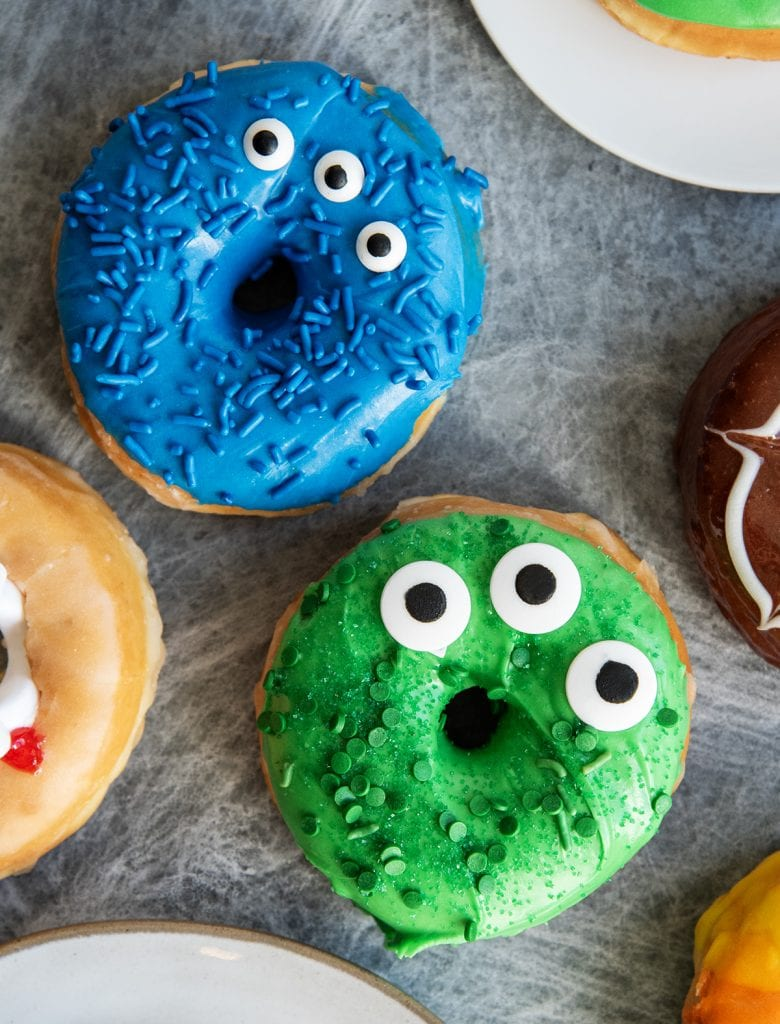Donut: (232, 495, 721, 965), (50, 49, 502, 529)
